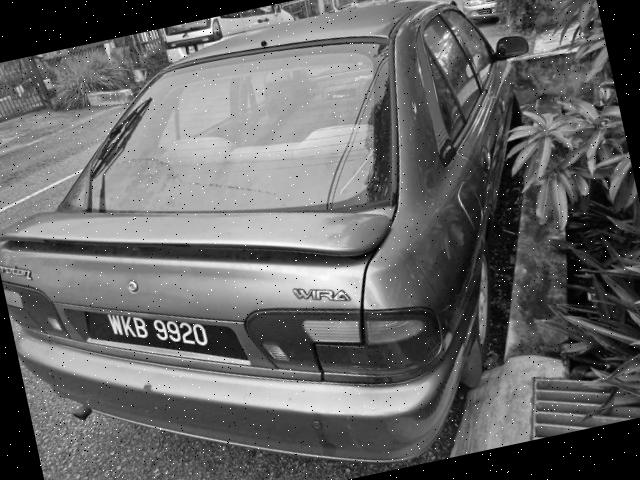License_Plate: (78, 281, 230, 387)
car: (1, 1, 617, 480)
